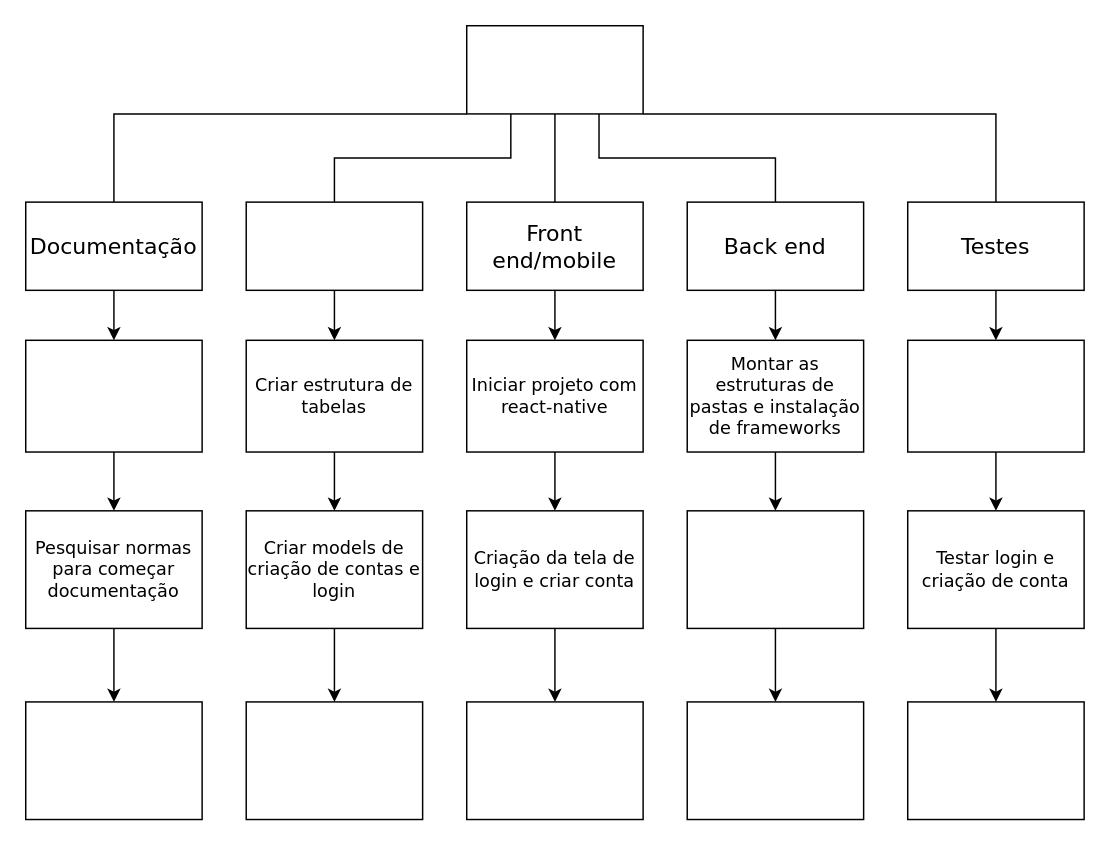
This 1110x845 diagram has some shape labels left out. Each missing label, with the centre of its shape:
Banco de dados/models: (x=334, y=245)
Criar funções para login, criação de conta e juntar com banco de dados: (x=775, y=568)
Desenvolver UML para banco de dados/backend: (x=113, y=395)
Micro Bills: (x=554, y=69)
Verificar servidor de backend, linkar com mobile: (x=995, y=395)
